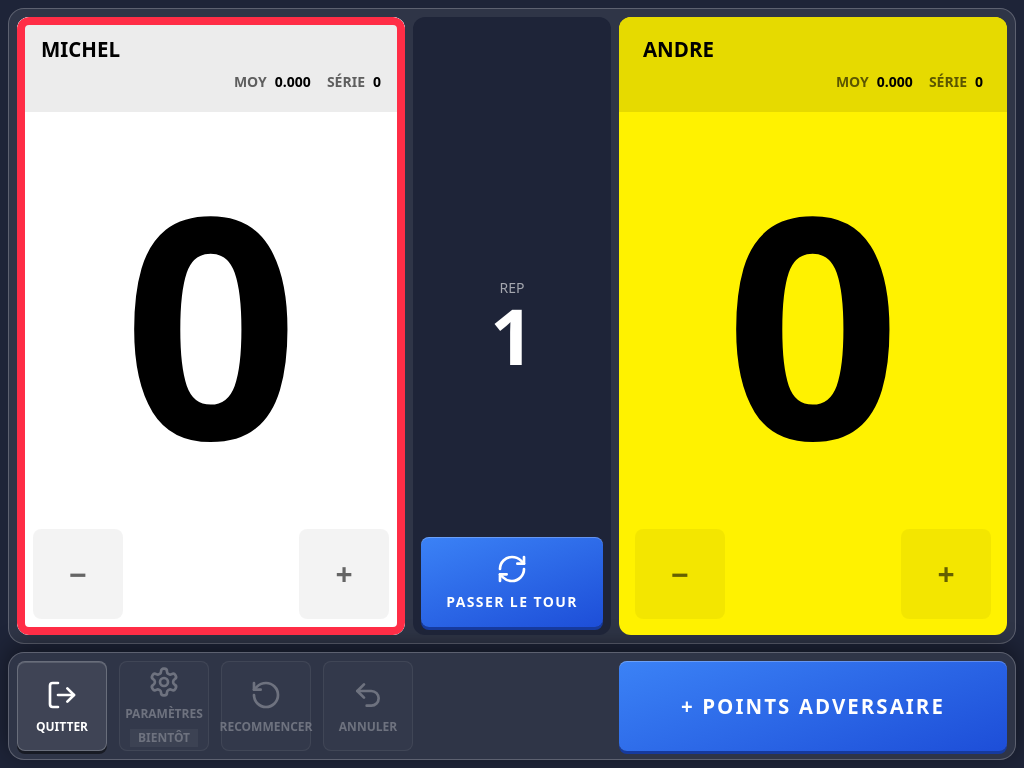
Scenario: GameView — saisie en popup et alternance › shows the updated total on the panel once a series is validated
The width and height of the screenshot is (1024, 768).
Press the mouse on the button with test id "add-points-button" at [813, 706], box [619,661,1007,751]
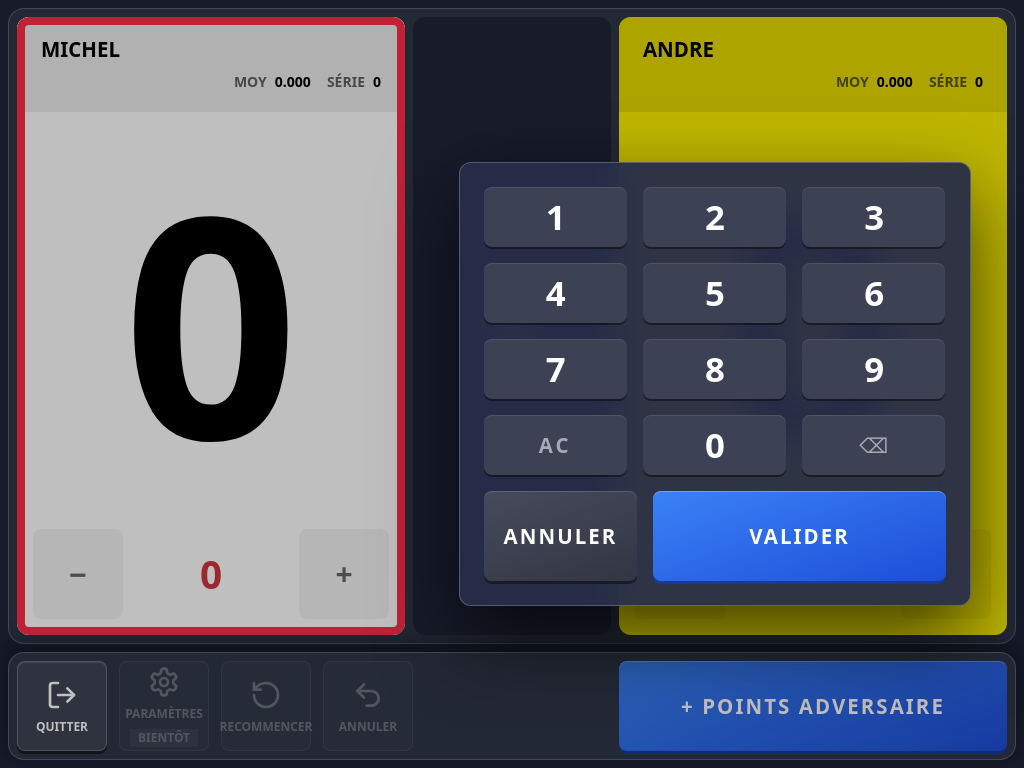
Press the mouse on the button with test id "digit-1" at [555, 217], box [484,187,627,247]
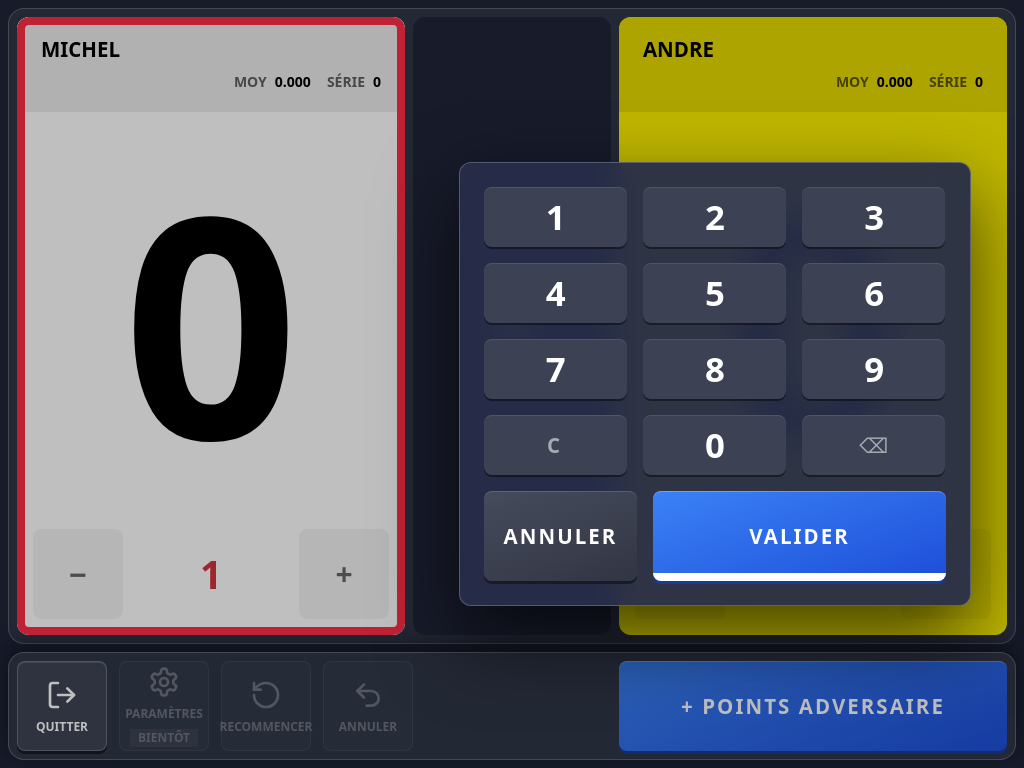
Press the mouse on the button with test id "digit-2" at [714, 217], box [643,187,786,247]
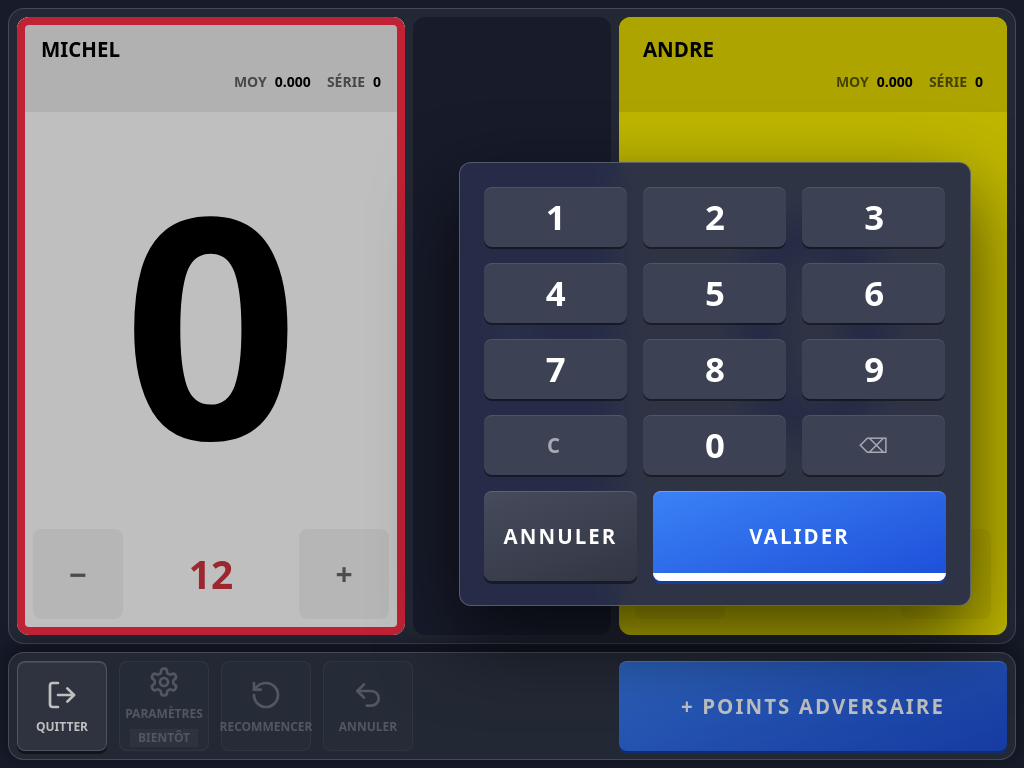
Press the mouse on the button with test id "entry-confirm-button" at [800, 536], box [654,491,946,581]
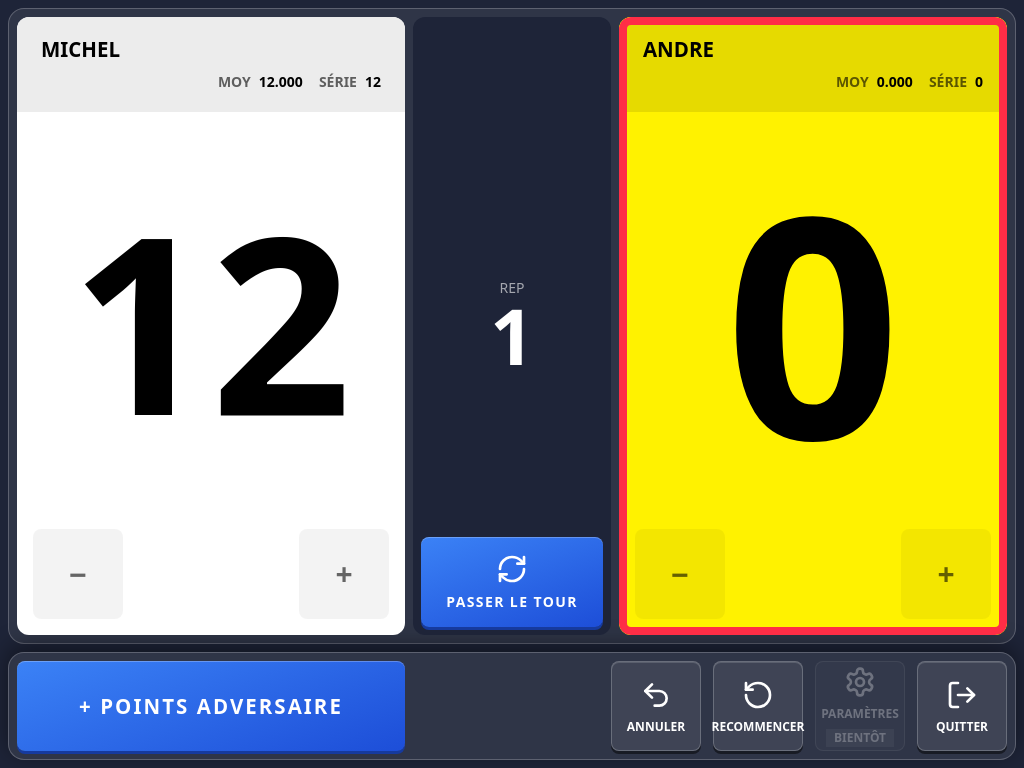
Expected: the 2nd text with test id "score" reads "0", [725,112,901,529]
Result: the 2nd text with test id "score" reads "12" at [70,152,352,487]
